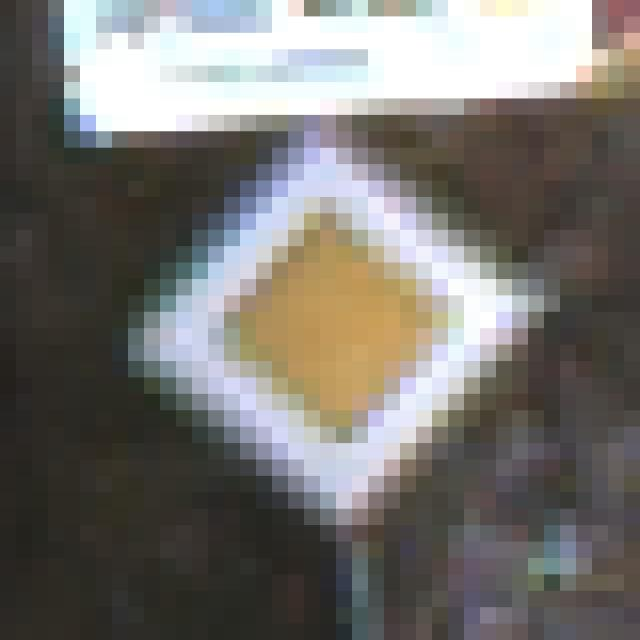Main Road: (97, 83, 561, 559)
